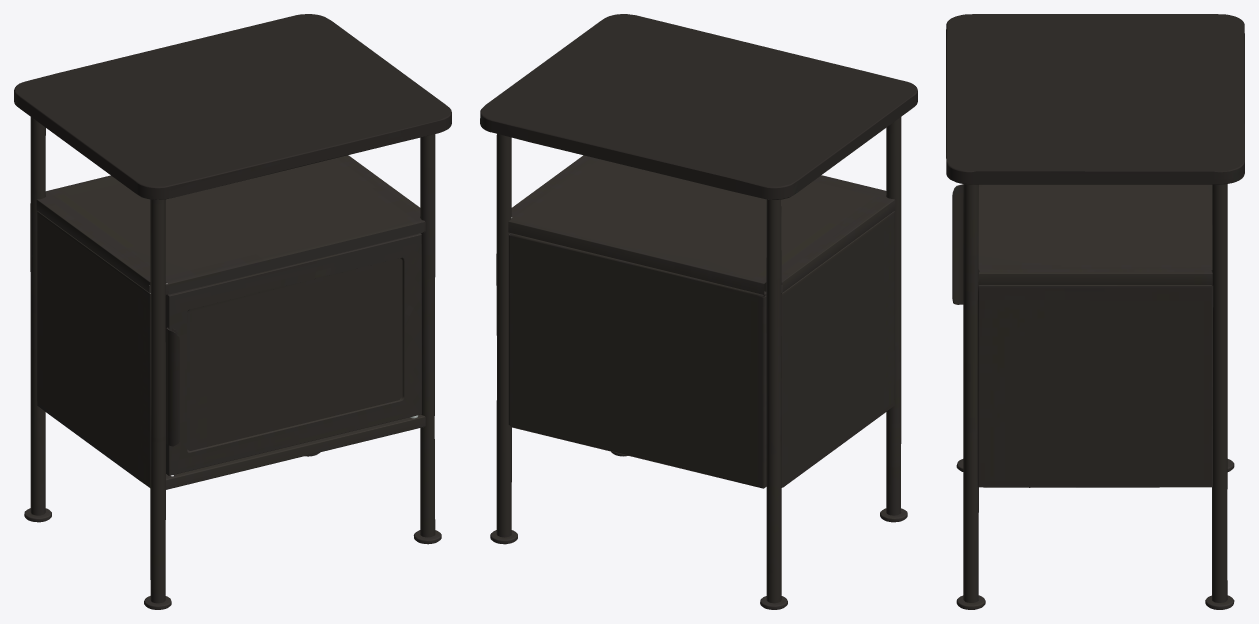
3 views of the same model, side by side, from view 1: azimuth 30°, elevation 25°; view 2: azimuth 150°, elevation 25°; view 3: azimuth 270°, elevation 25° (orthographic). The views are drawn at different scales.
Parts seen in each view (by area): view 1: ASY_ART_20570221_S01_NV01; view 2: ASY_ART_20570221_S01_NV01; view 3: ASY_ART_20570221_S01_NV01.
Part boxes in pixels (x1,y1,x2,y2): ASY_ART_20570221_S01_NV01: (14, 14, 451, 609); ASY_ART_20570221_S01_NV01: (480, 14, 917, 609); ASY_ART_20570221_S01_NV01: (946, 14, 1244, 609).
Bounding box in the file's own units: 0.45 × 0.59 × 0.36.
Materials: 1 (1 with a texture image).
